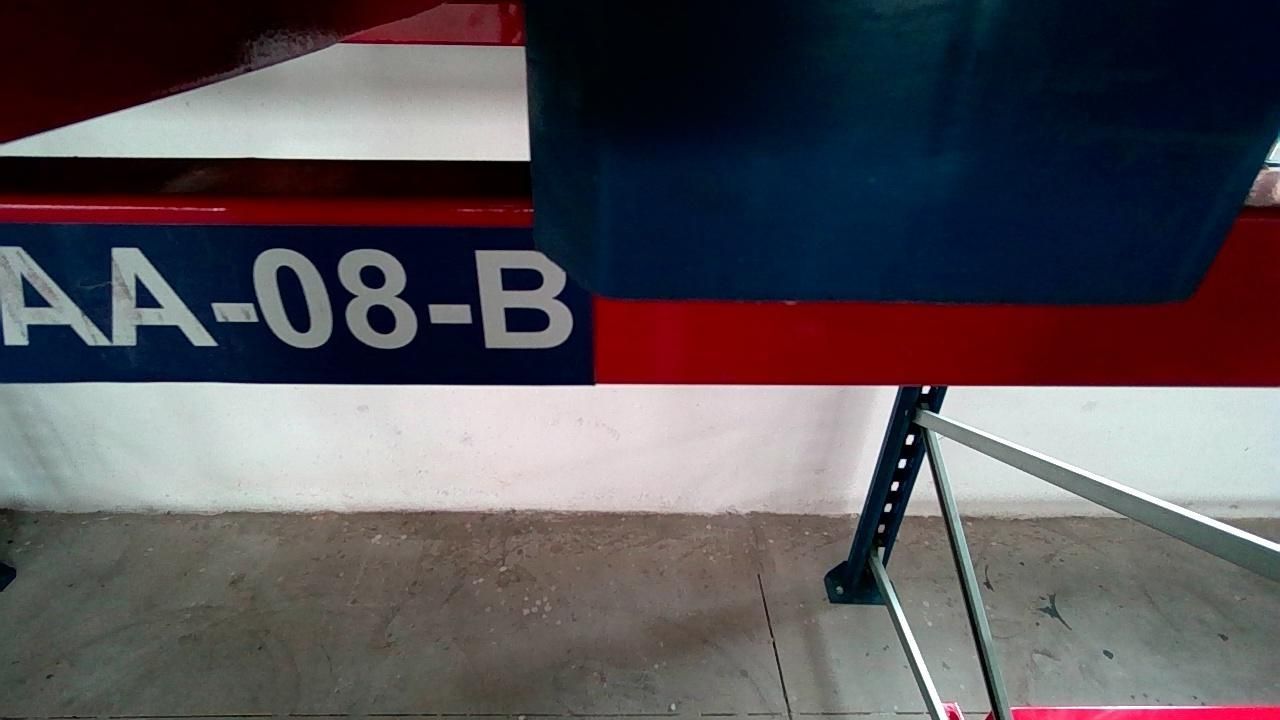h_rack: (2, 207, 1280, 384)
